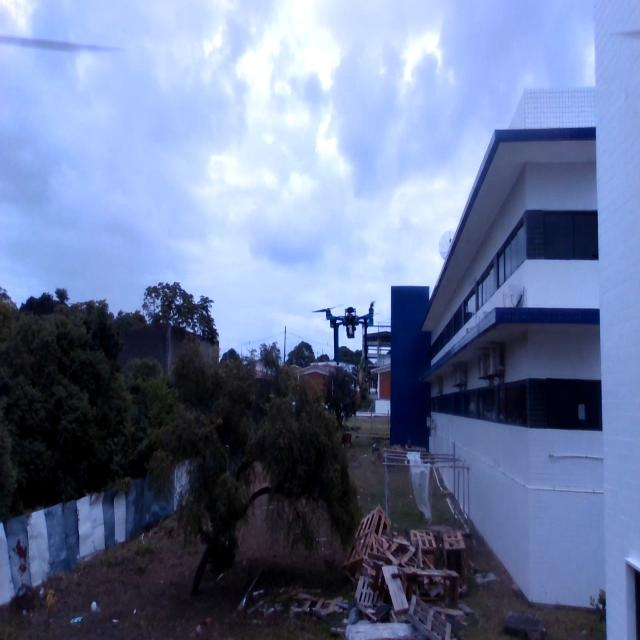-uav-: (306, 292, 396, 363)
